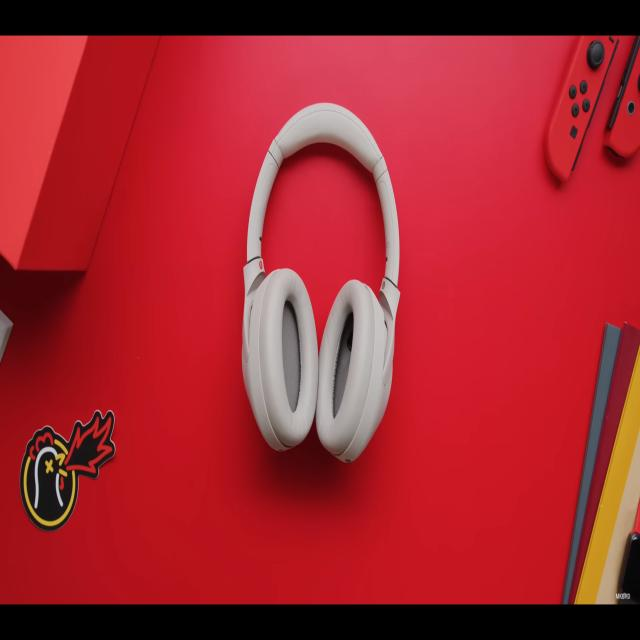Headphone: (240, 102, 402, 468)
